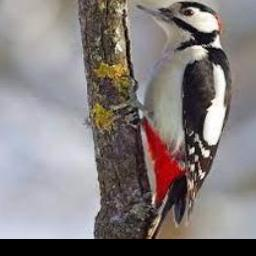Woodpecker: (118, 1, 233, 239)
